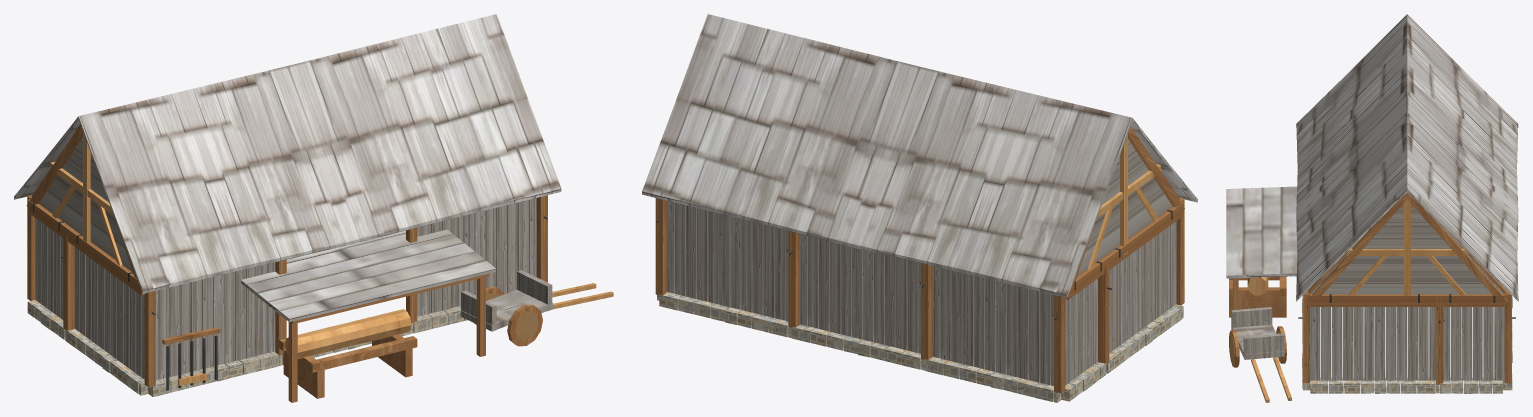
File: lumber_mill_textured_v1.glb
3 renders of one model, left to right at view 1: azimuth 30°, elevation 25°; view 2: azimuth 150°, elevation 25°; view 3: azimuth 270°, elevation 25°, orthographic. The views are drawn at different scales.
Parts seen in each view (by area): view 1: LM_Front_Settled_Shingle_Slope, LM_Open_Intake_Canopy, LM_Front_West_Plank_Bay, LM_Front_East_Plank_Bay, LM_Hand_Sawpit_And_Log_Frame, LM_West_Wall_Long, LM_Timber_Transport_Cart, LM_West_Six_Metre_Gable, LM_West_King_Post_Truss, LM_West_Wall_Short, LM_Front_Footing_1, LM_West_Footing_Long (+10 smaller); view 2: LM_Rear_Settled_Shingle_Slope, LM_Rear_Plank_Bay_1, LM_Rear_Plank_Bay_3, LM_Rear_Plank_Bay_2, LM_West_Wall_Long, LM_West_King_Post_Truss, LM_West_Six_Metre_Gable, LM_West_Wall_Short, LM_Rear_Footing_1, LM_Rear_Footing_3, LM_Rear_Footing_2, LM_West_Footing_Long (+9 smaller); view 3: LM_Front_Settled_Shingle_Slope, LM_Rear_Settled_Shingle_Slope, LM_East_Wall_Long, LM_East_Six_Metre_Gable, LM_Open_Intake_Canopy, LM_East_King_Post_Truss, LM_East_Wall_Short, LM_Timber_Transport_Cart, LM_East_Footing_Long, LM_Hand_Sawpit_And_Log_Frame, LM_East_Wall_Plate_Long, LM_East_Footing_Short (+4 smaller).
Boxes of the visible parts, left/top/right/bottom form: LM_Front_Settled_Shingle_Slope: left=78, top=14, right=561, bottom=293; LM_Open_Intake_Canopy: left=241, top=229, right=495, bottom=402; LM_Front_West_Plank_Bay: left=156, top=262, right=275, bottom=380; LM_Front_East_Plank_Bay: left=417, top=198, right=536, bottom=316; LM_Hand_Sawpit_And_Log_Frame: left=279, top=309, right=417, bottom=398; LM_West_Wall_Long: left=74, top=247, right=144, bottom=379; LM_Timber_Transport_Cart: left=460, top=270, right=613, bottom=346; LM_West_Six_Metre_Gable: left=31, top=137, right=132, bottom=271; LM_West_King_Post_Truss: left=26, top=124, right=144, bottom=295; LM_West_Wall_Short: left=35, top=218, right=63, bottom=319; LM_Front_Footing_1: left=148, top=351, right=282, bottom=396; LM_West_Footing_Long: left=65, top=329, right=148, bottom=395; LM_Rear_Settled_Shingle_Slope: left=642, top=14, right=1132, bottom=298; LM_Rear_Plank_Bay_1: left=932, top=266, right=1053, bottom=386; LM_Rear_Plank_Bay_3: left=667, top=201, right=788, bottom=321; LM_Rear_Plank_Bay_2: left=800, top=234, right=920, bottom=353; LM_West_Wall_Long: left=1109, top=221, right=1176, bottom=352; LM_West_King_Post_Truss: left=1065, top=126, right=1184, bottom=299; LM_West_Six_Metre_Gable: left=1077, top=139, right=1179, bottom=276; LM_West_Wall_Short: left=1065, top=278, right=1097, bottom=385; LM_Rear_Footing_1: left=925, top=357, right=1061, bottom=402; LM_Rear_Footing_3: left=659, top=292, right=791, bottom=337; LM_Rear_Footing_2: left=792, top=324, right=924, bottom=370; LM_West_Footing_Long: left=1106, top=304, right=1183, bottom=373; LM_Front_Settled_Shingle_Slope: left=1296, top=14, right=1407, bottom=301; LM_Rear_Settled_Shingle_Slope: left=1407, top=14, right=1518, bottom=301; LM_East_Wall_Long: left=1310, top=307, right=1436, bottom=380; LM_East_Six_Metre_Gable: left=1308, top=204, right=1506, bottom=294; LM_Open_Intake_Canopy: left=1226, top=186, right=1297, bottom=309; LM_East_King_Post_Truss: left=1307, top=192, right=1507, bottom=306; LM_East_Wall_Short: left=1443, top=307, right=1504, bottom=380; LM_Timber_Transport_Cart: left=1229, top=307, right=1291, bottom=402; LM_East_Footing_Long: left=1310, top=377, right=1439, bottom=393; LM_Hand_Sawpit_And_Log_Frame: left=1229, top=276, right=1286, bottom=317; LM_East_Wall_Plate_Long: left=1310, top=294, right=1439, bottom=302; LM_East_Footing_Short: left=1440, top=377, right=1502, bottom=393.
Size of the model in its own units: 13.87 by 7.02 by 9.
8 materials, 8 textured.
